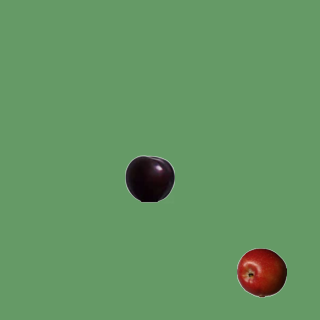Apple Braeburn: (236, 247, 286, 297)
Cherry Wax Black: (124, 153, 174, 203)
